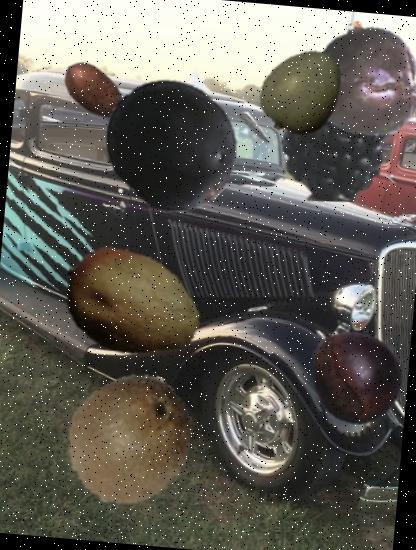Chestnut: (307, 326, 412, 430)
Grape: (99, 72, 247, 220)
Kiwi: (57, 366, 205, 514)
Mulberry: (255, 45, 416, 208)
Nut: (56, 52, 132, 128)
Papaya: (56, 226, 210, 380)
Passion: (300, 18, 416, 146)
Pear: (252, 36, 358, 142)
